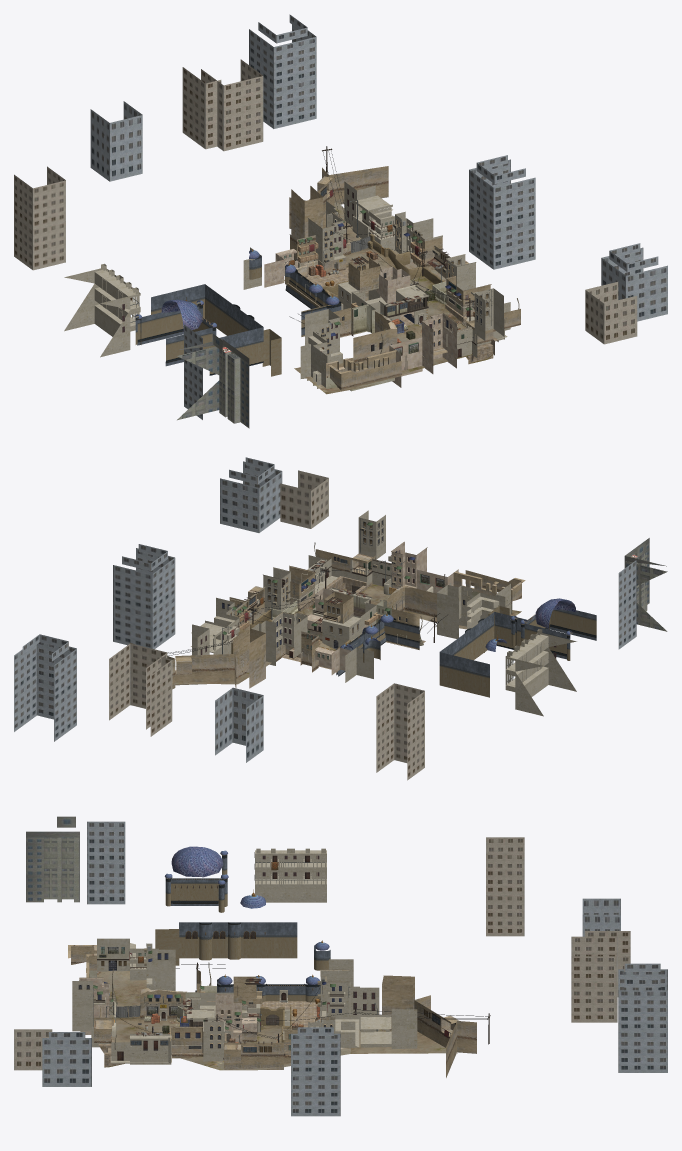
Rendered from dust.glb.
The picture shows the model from 3 angles, top to bottom: view 1: azimuth 30°, elevation 25°; view 2: azimuth 150°, elevation 25°; view 3: azimuth 270°, elevation 25°; orthographic projection. The views are drawn at different scales.
Visible parts, largest first — view 1: _Combined Mesh [Part(Other)]_0; view 2: _Combined Mesh [Part(Other)]_0; view 3: _Combined Mesh [Part(Other)]_0.
Part boxes in pixels (<box>): _Combined Mesh [Part(Other)]_0: <box>14,14,667,428</box>; _Combined Mesh [Part(Other)]_0: <box>14,457,667,780</box>; _Combined Mesh [Part(Other)]_0: <box>14,816,667,1116</box>.
Size of the model in its own units: 195 by 49.72 by 232.
Materials: 9 (9 with a texture image).
